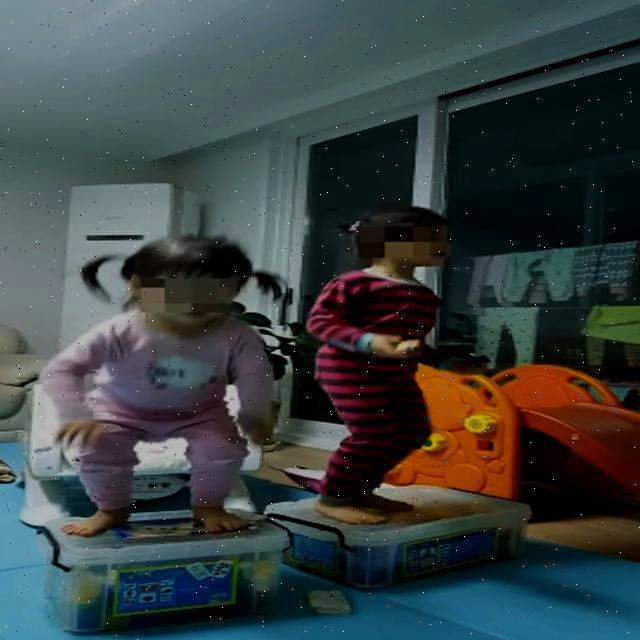child: (39, 234, 276, 521), (300, 208, 492, 527)
